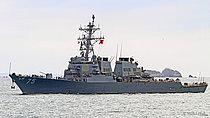MIL_Ship: (9, 20, 208, 94)
